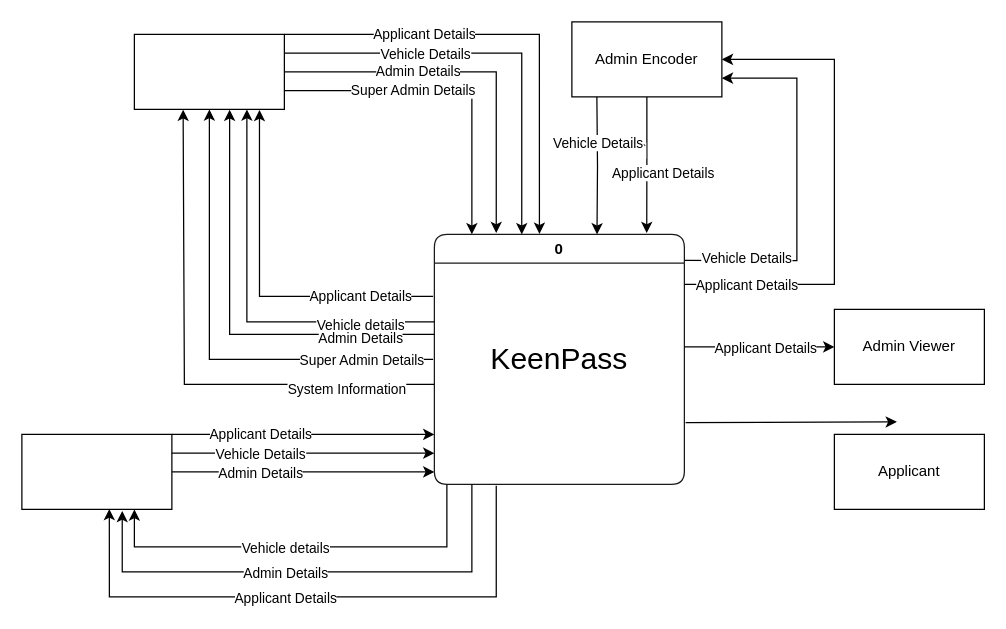
Some shapes in this 1006 by 629 pixel diagram are drawn without their labels. The box of each missing label's shape, as (x1, y1, x2, y2) in pixels:
Admin: (21, 433, 172, 509)
Super Admin: (133, 33, 284, 109)
